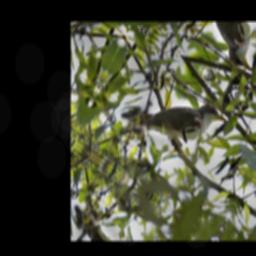Cuckoo: (97, 56, 230, 205)
